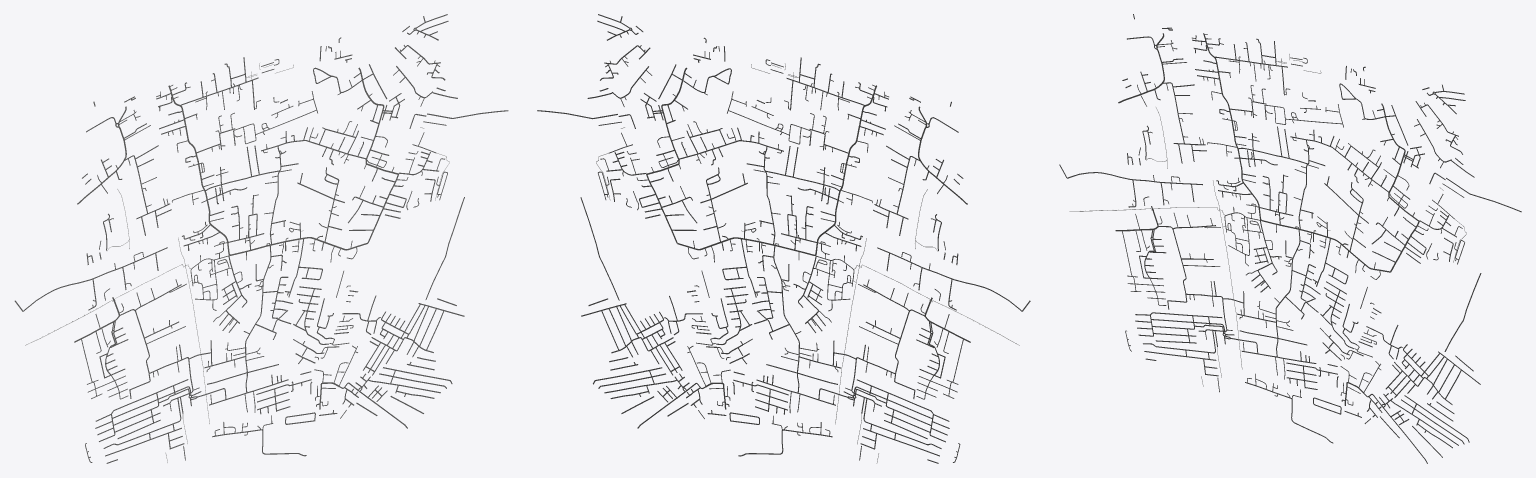
Rendered from roads_1_2.obj.
The picture shows the model from 3 angles, left to right: view 1: azimuth 30°, elevation 25°; view 2: azimuth 150°, elevation 25°; view 3: azimuth 330°, elevation 25°; orthographic projection. The views are drawn at different scales.
Size of the model in its own units: 2793 by 2239 by 11.68.
3 materials, 3 textured.
